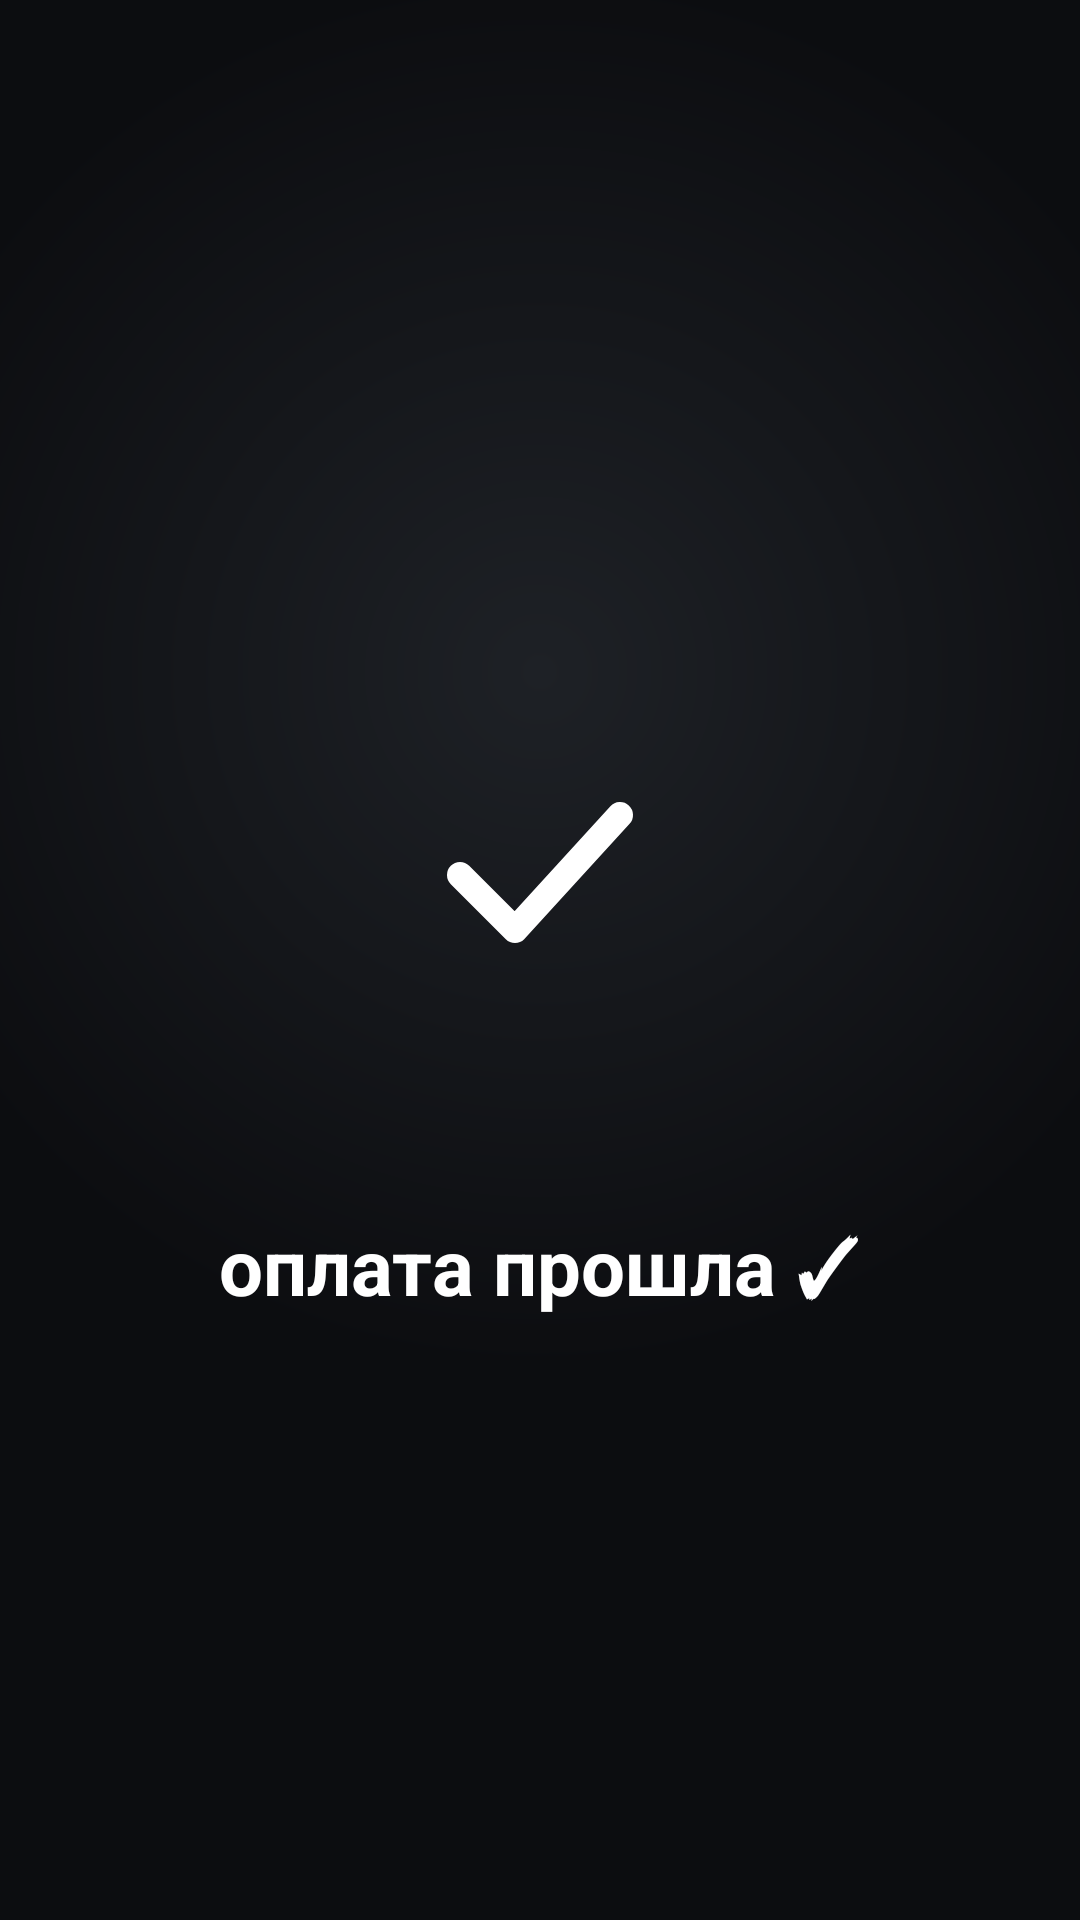

Screen size 1080px x 1920px. Icon name, then its center in pixels as (x,y):
готово: (540,872)
